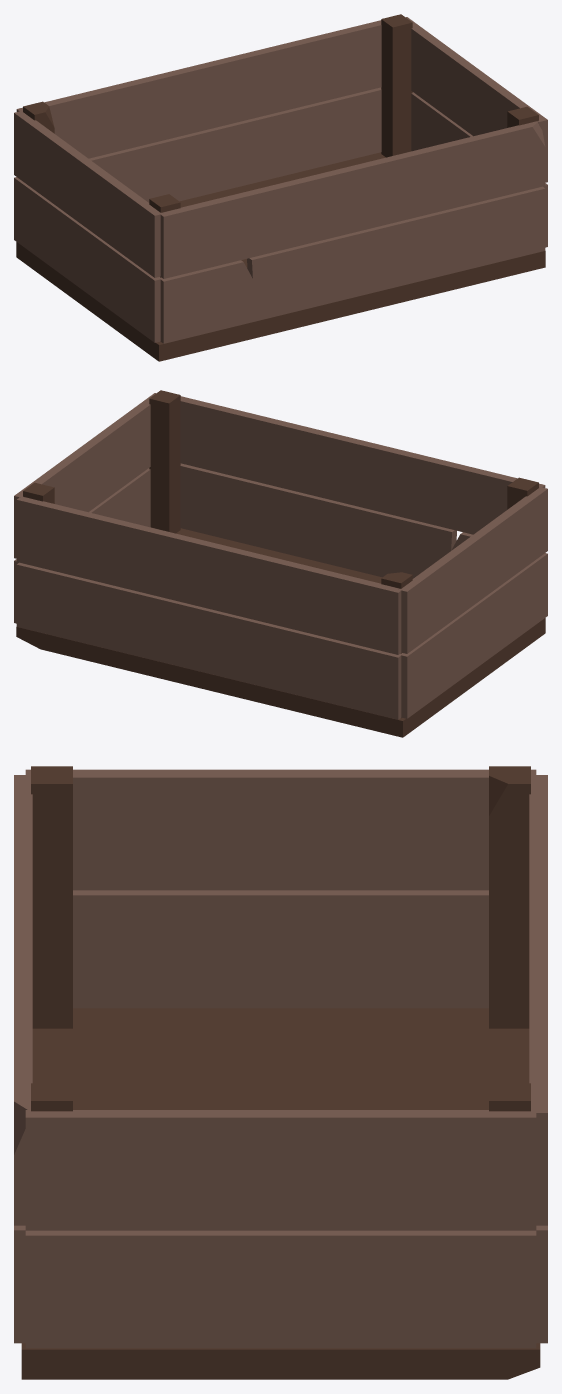
3 renders of one model, top to bottom at view 1: azimuth 30°, elevation 25°; view 2: azimuth 150°, elevation 25°; view 3: azimuth 270°, elevation 25°, orthographic. The views are drawn at different scales.
Visible parts, largest first — view 1: Box 1; view 2: Box 1; view 3: Box 1.
Boxes of the visible parts, x1,y1,x2,y2 form: Box 1: (14, 14, 547, 361); Box 1: (14, 390, 547, 737); Box 1: (14, 766, 547, 1379).
Size of the model in its own units: 1.34 by 0.4919 by 0.8656.
